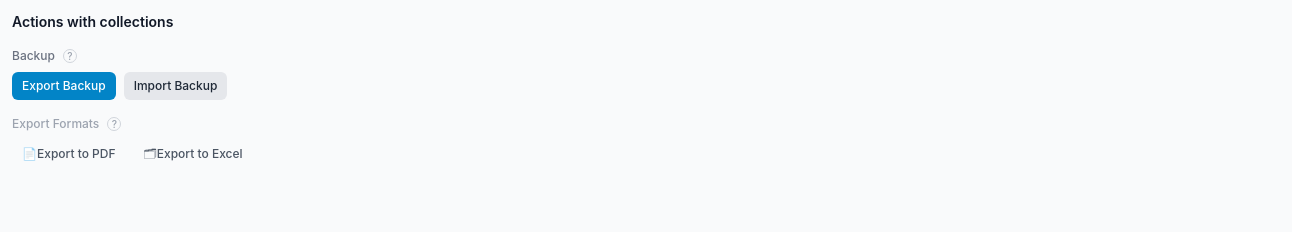
it: BackupSection › displays error when import preview fails
What coordinates should you click on to do the following:
click the button "Import Backup"
I would click on:
 (176, 86)
Its box is 124,72 -> 227,100.
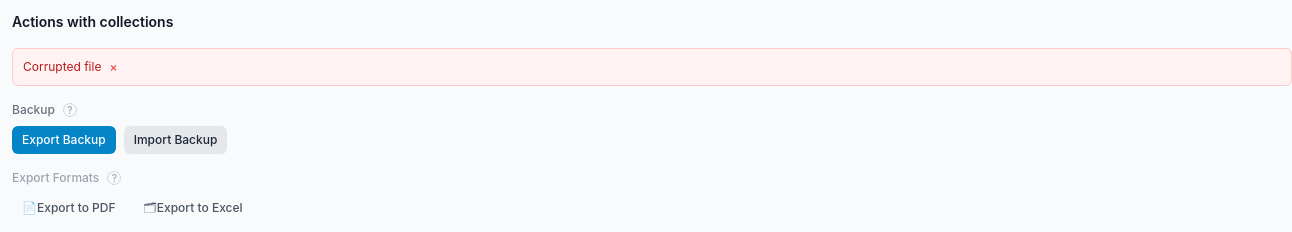
Expected: the text "Corrupted file" is shown, 23,59 -> 101,74
